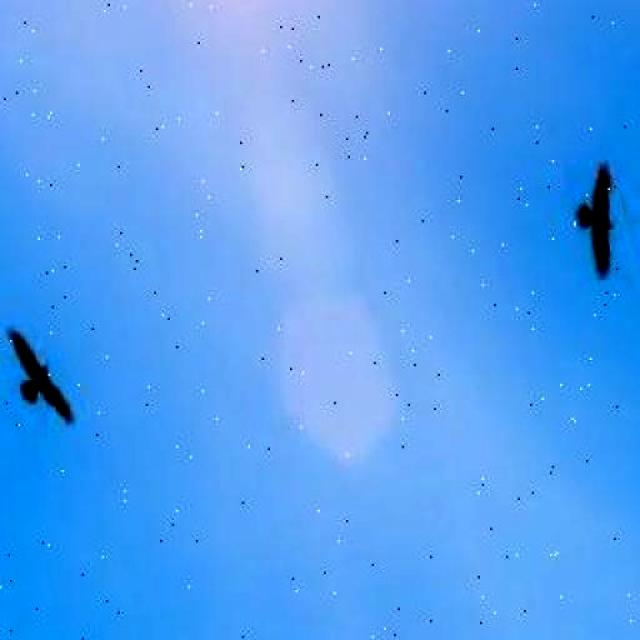airplane: (562, 156, 639, 284), (4, 314, 78, 436)
